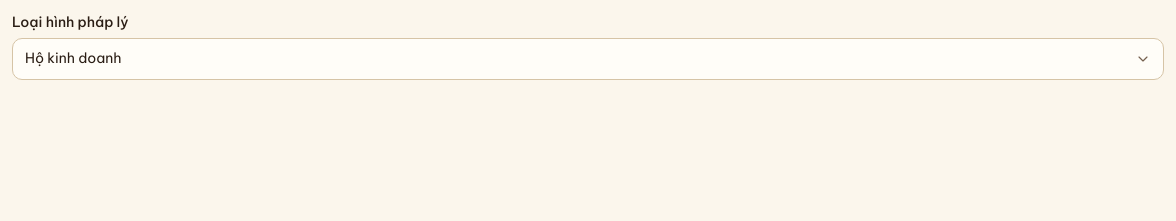
Test: Shared UI - Select (listbox tự dựng) › gọi onChange với giá trị của option được chọn
Click the dropdown: (73, 58) [13,48,1163,70]
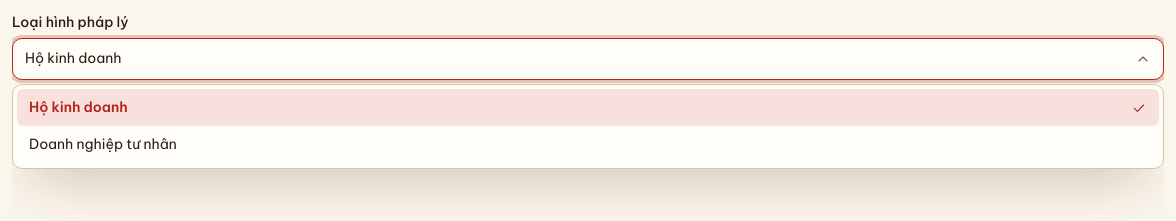
Click the option "Doanh nghiệp tư nhân": (103, 144) [29,135,177,153]
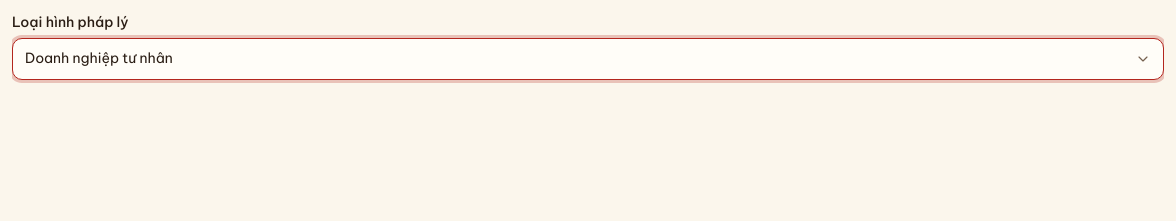
expect the list is gone: met
